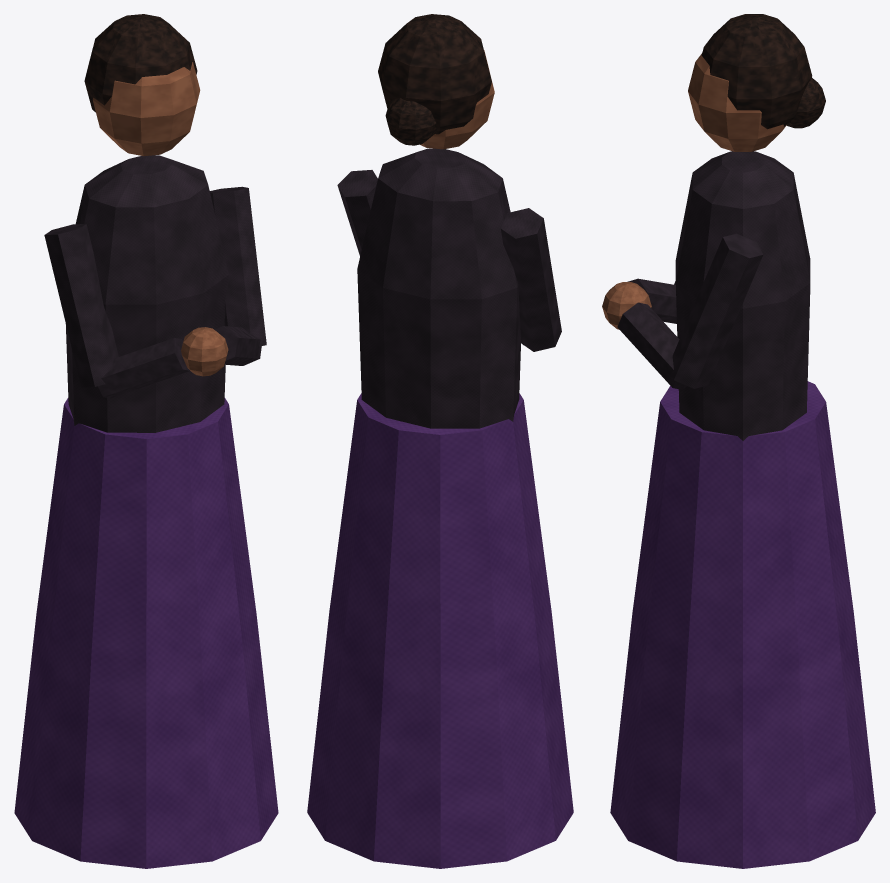
File: persona_mujer.obj
3 renders of one model, left to right at view 1: azimuth 30°, elevation 25°; view 2: azimuth 150°, elevation 25°; view 3: azimuth 270°, elevation 25°, orthographic.
Visible parts, largest first — view 1: Pieza, Pieza.001, Cylinder, Sphere.003, Sphere.004, Cylinder.002, Cylinder.001, Sphere.002, Cylinder.003; view 2: Pieza, Pieza.001, Sphere.004, Cylinder, Cylinder.002, Sphere.005, Sphere.003; view 3: Pieza, Pieza.001, Sphere.004, Cylinder.002, Sphere.003, Cylinder.003, Sphere.002, Cylinder.001, Sphere.005.
Part boxes in pixels (x1,y1,x2,y2): Pieza: (14,398,278,868); Pieza.001: (65,155,228,432); Cylinder: (44,224,118,387); Sphere.003: (92,62,200,156); Sphere.004: (84,14,197,112); Cylinder.002: (209,186,266,346); Cylinder.001: (98,338,190,398); Sphere.002: (181,327,228,376); Cylinder.003: (214,326,261,365); Pieza: (307,393,573,868); Pieza.001: (357,148,520,428); Sphere.004: (378,14,491,134); Cylinder: (500,208,561,351); Cylinder.002: (337,170,377,256); Sphere.005: (385,98,436,145); Sphere.003: (420,50,494,149); Pieza: (610,381,875,868); Pieza.001: (675,151,810,440); Sphere.004: (701,14,812,129); Cylinder.002: (671,233,763,388); Sphere.003: (688,53,786,151); Cylinder.003: (617,302,686,389); Sphere.002: (602,282,651,329); Cylinder.001: (627,278,676,323); Sphere.005: (787,78,825,128).
Bounding box in the file's own units: 0.48 × 1.63 × 0.495.
5 materials, 5 textured.
